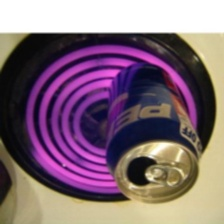can: (99, 58, 205, 209)
